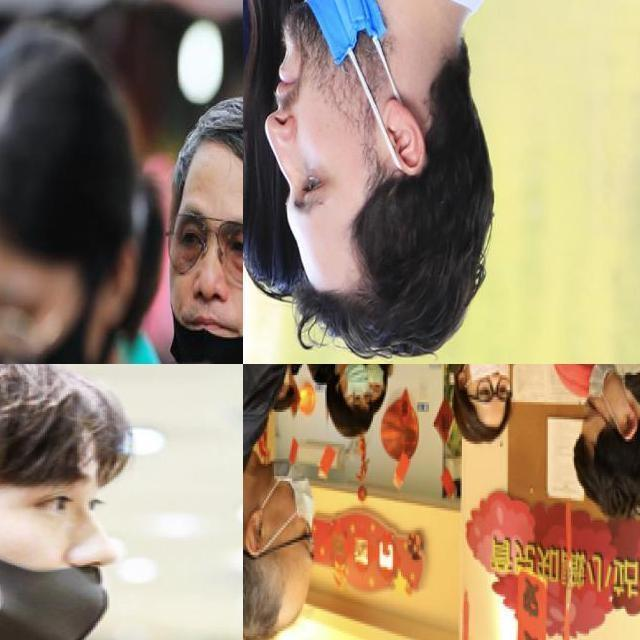hairnet: (267, 0, 386, 226), (0, 456, 124, 639), (168, 199, 242, 363), (470, 364, 509, 413)
mask: (253, 454, 323, 554), (586, 360, 640, 440)
no_gloves: (278, 139, 499, 367), (0, 363, 131, 489), (168, 94, 244, 212), (245, 532, 315, 639), (571, 421, 640, 517), (453, 382, 510, 448), (320, 395, 381, 445)
